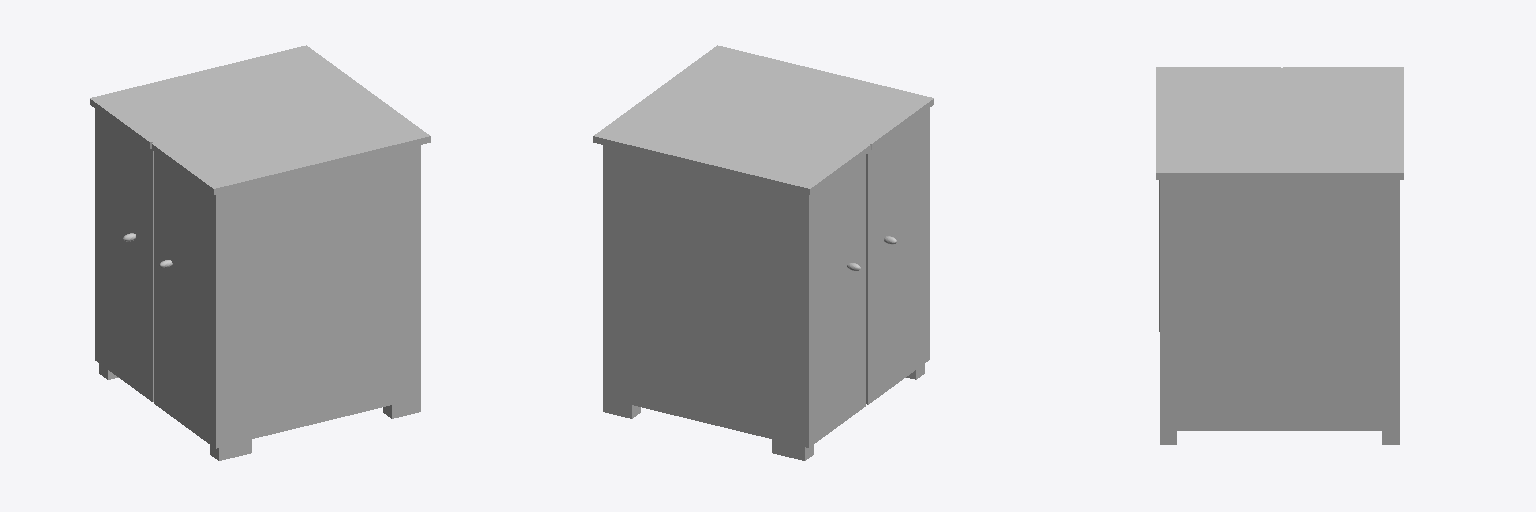
The model's file is nachttisch.obj.
3 views of the same model, side by side, from view 1: azimuth 30°, elevation 25°; view 2: azimuth 150°, elevation 25°; view 3: azimuth 270°, elevation 25° (orthographic).
Parts seen in each view (by area): view 1: Box001, Object, Object002; view 2: Box001, Object, Object002; view 3: Box001.
Part boxes in pixels (bbox=[...]): Box001: bbox=[90, 45, 430, 460]; Object: bbox=[154, 152, 218, 448]; Object002: bbox=[95, 109, 153, 401]; Box001: bbox=[593, 45, 933, 460]; Object: bbox=[866, 108, 929, 404]; Object002: bbox=[805, 155, 865, 447]; Box001: bbox=[1156, 67, 1403, 444].
Size of the model in its own units: 5.97 by 6.97 by 5.7.